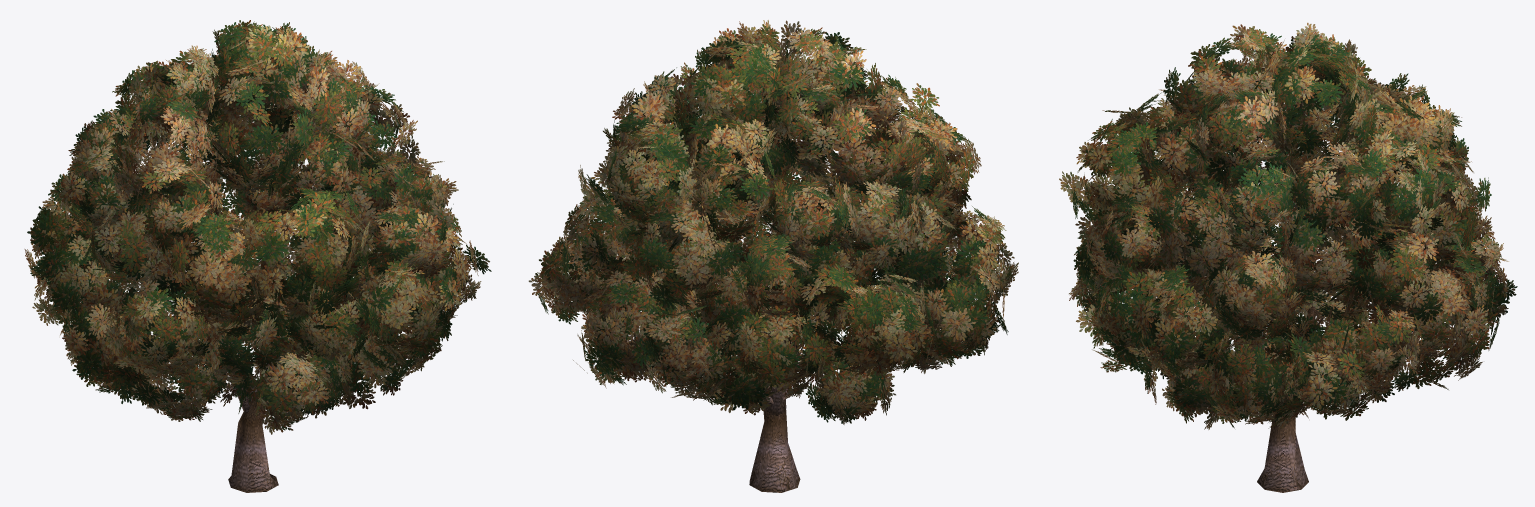
The model's file is mm6_deco_tree17.glb.
3 renders of one model, left to right at view 1: azimuth 30°, elevation 25°; view 2: azimuth 150°, elevation 25°; view 3: azimuth 270°, elevation 25°, orthographic.
Parts seen in each view (by area): view 1: Tree; view 2: Tree; view 3: Tree.
Boxes of the visible parts, x1,y1,x2,y2 form: Tree: [24, 20, 491, 492]; Tree: [528, 20, 1018, 492]; Tree: [1059, 22, 1517, 492].
Size of the model in its own units: 5.38 by 5.5 by 5.15.
2 materials, 2 textured.
